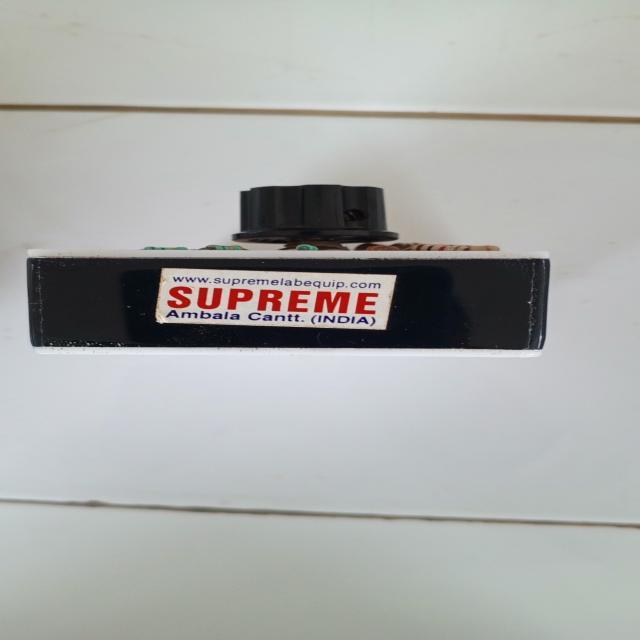Set of Resistances: (14, 177, 581, 363)
